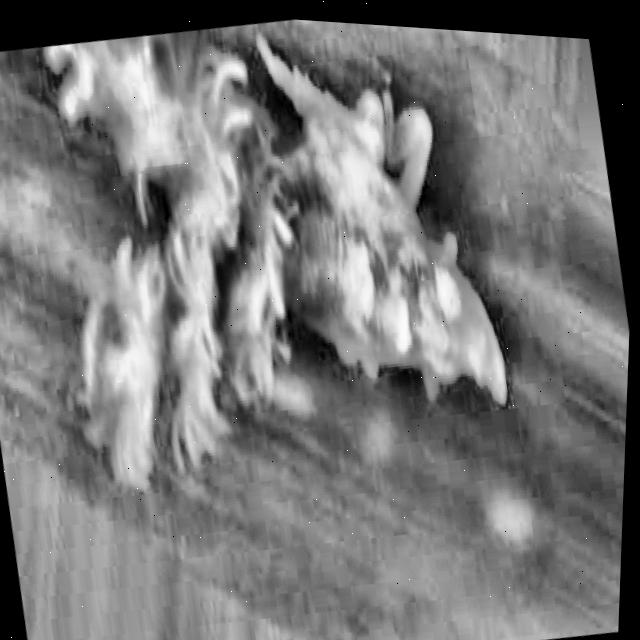Pyrilla-perpusilla: (0, 0, 596, 640)
